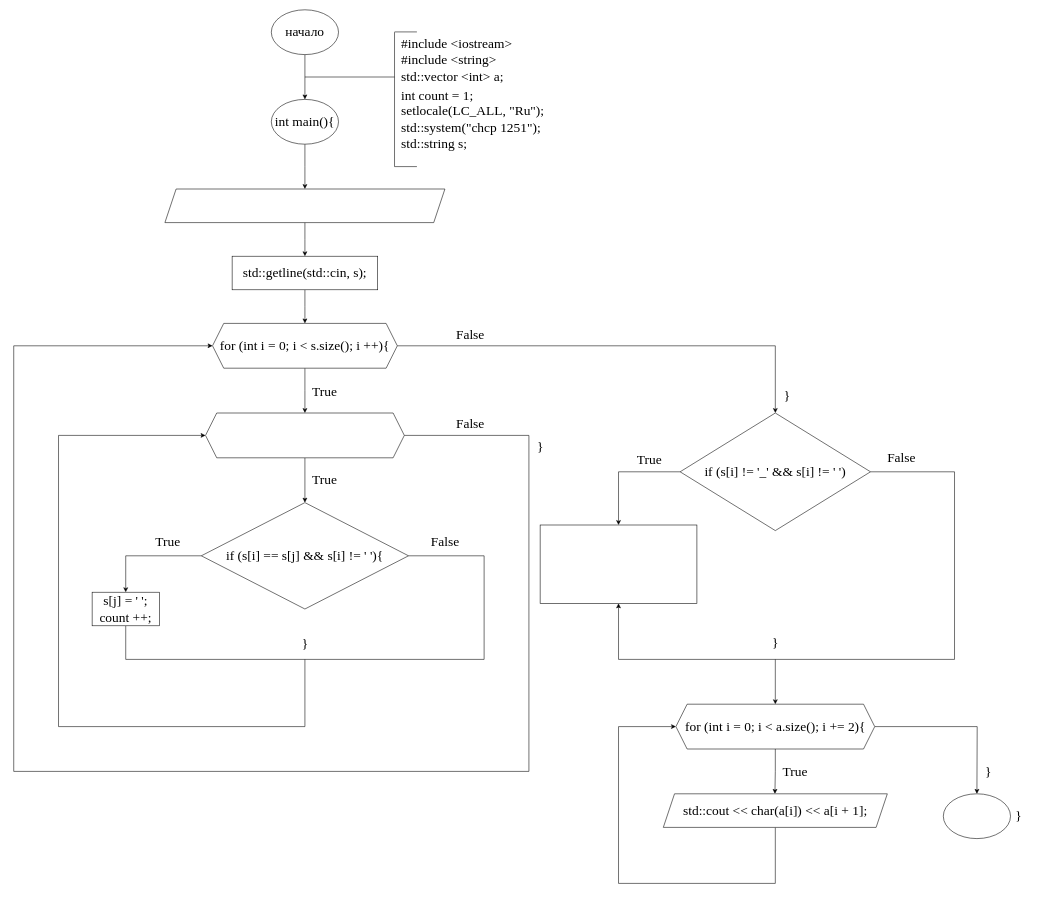
Image size: 1039x898. Some labels were removed from this diagram. The box of each missing label's shape, as (x1, y1, x2, y2) in pixels:
a.push_back(s[i]); a.push_back(count); count = 1; s[i] = ' ';: (540, 524, 697, 603)
for (int j = i + 1; j < s.size(); j ++){: (205, 412, 404, 458)
std::cout << "Введите первое и второе слово через нижнее подчёркивание: ";: (164, 188, 445, 223)
конец: (943, 793, 1011, 839)
